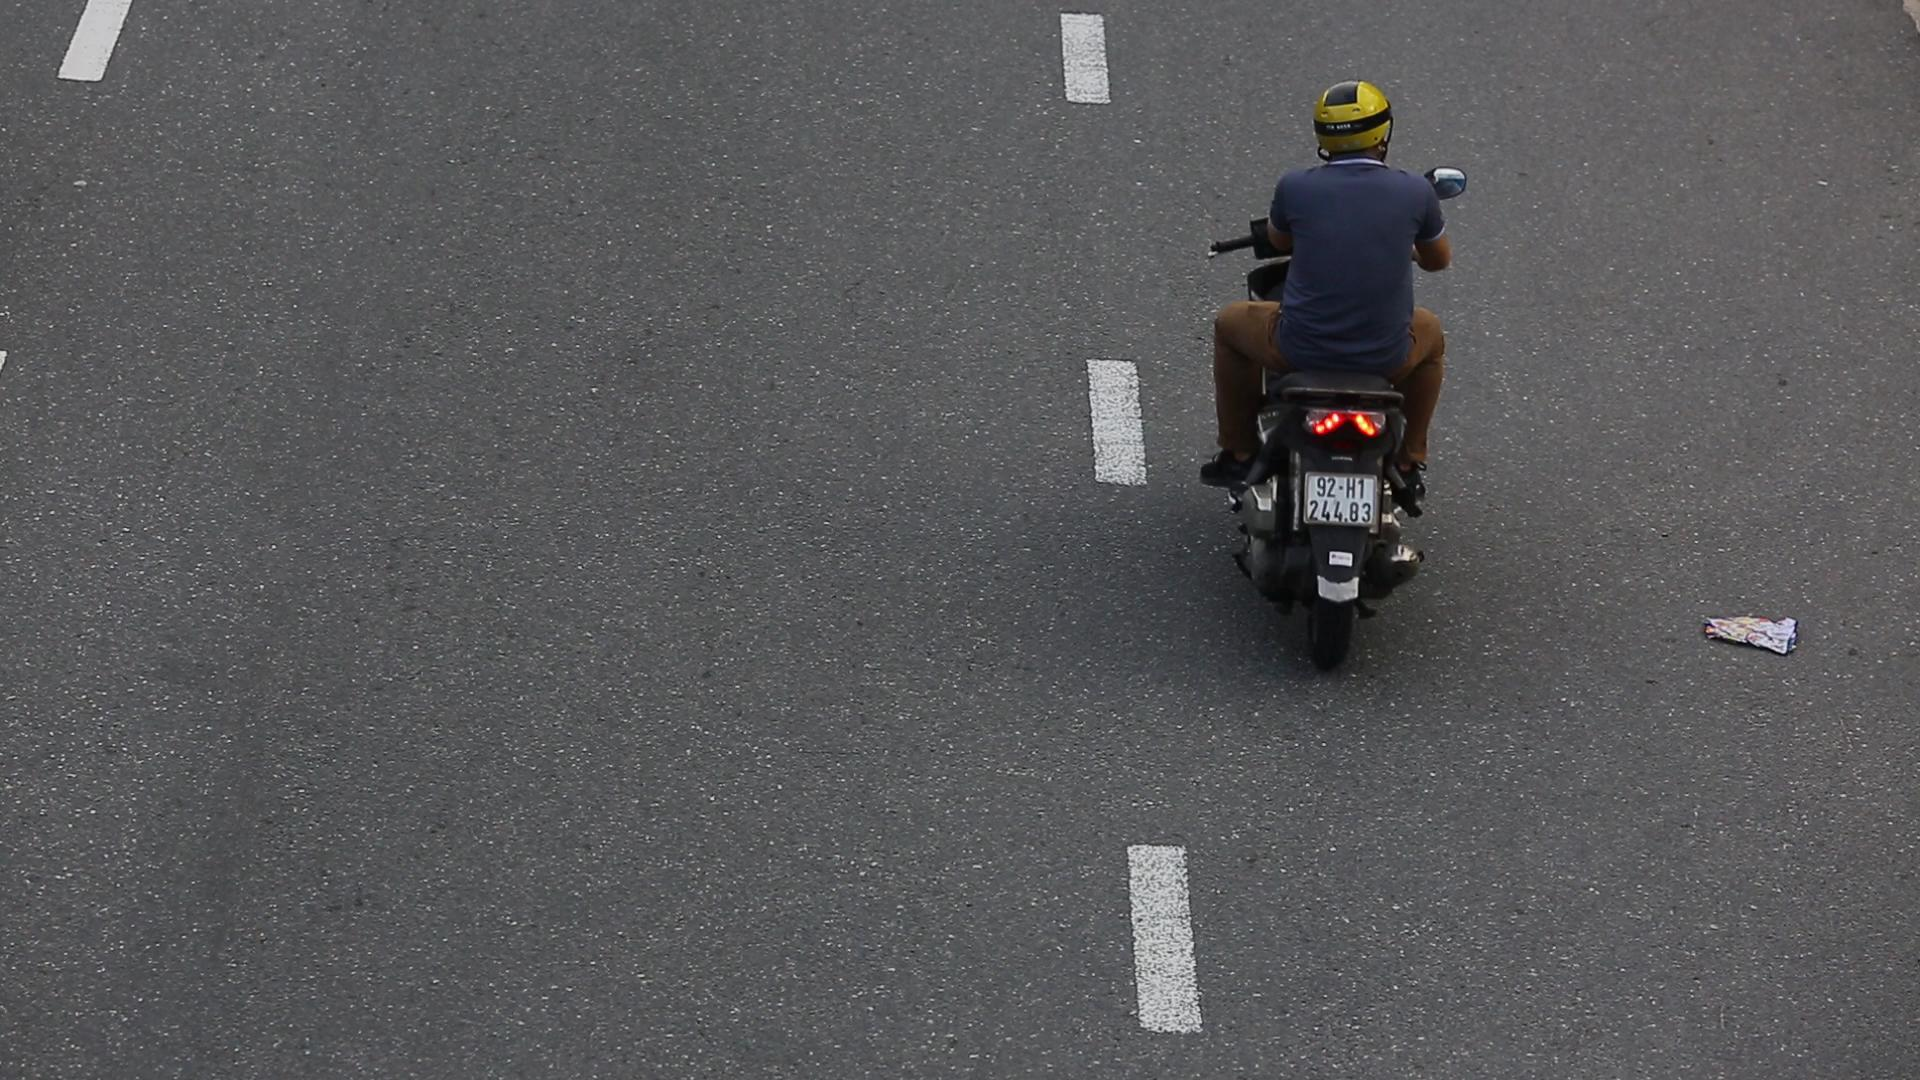motobike: (1184, 44, 1477, 671)
